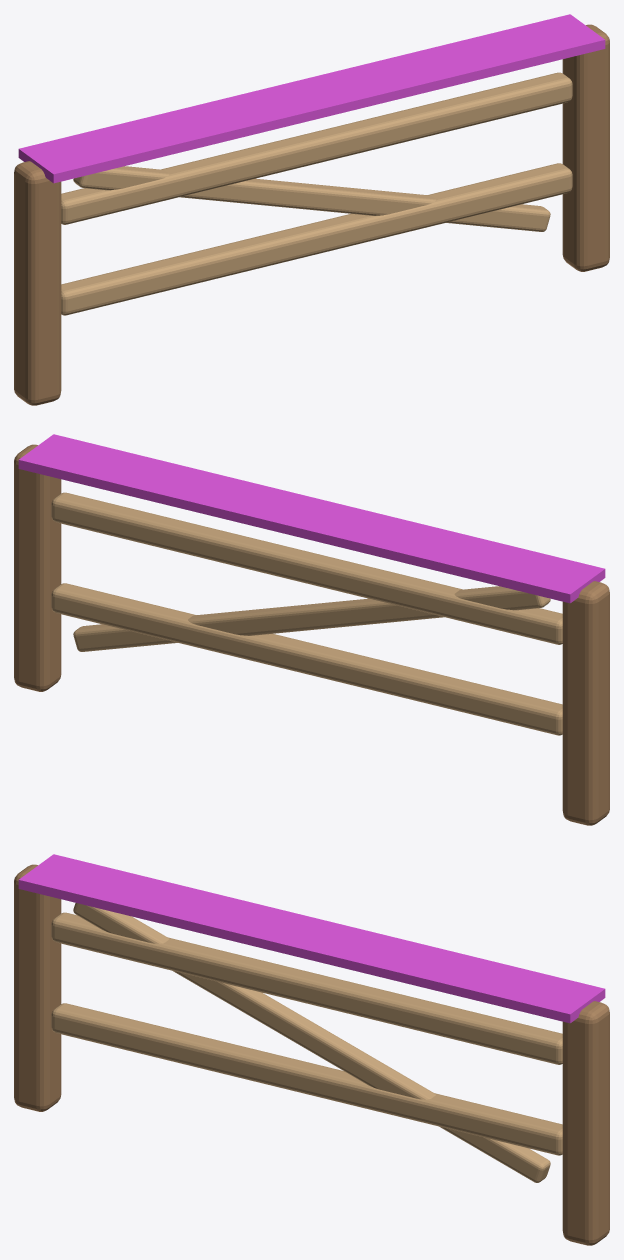
3 renders of one model, top to bottom at view 1: azimuth 30°, elevation 25°; view 2: azimuth 150°, elevation 25°; view 3: azimuth 330°, elevation 25°, orthographic.
Visible parts, largest first — view 1: NAV_MASK_RURAL_GATE, LOD0_RURAL_GATE_TopRail, LOD0_RURAL_GATE_MidRail, LOD0_RURAL_GATE_Post, LOD0_RURAL_GATE_Post.001, LOD0_RURAL_GATE_Brace; view 2: NAV_MASK_RURAL_GATE, LOD0_RURAL_GATE_TopRail, LOD0_RURAL_GATE_MidRail, LOD0_RURAL_GATE_Post, LOD0_RURAL_GATE_Post.001, LOD0_RURAL_GATE_Brace; view 3: NAV_MASK_RURAL_GATE, LOD0_RURAL_GATE_TopRail, LOD0_RURAL_GATE_MidRail, LOD0_RURAL_GATE_Post.001, LOD0_RURAL_GATE_Post, LOD0_RURAL_GATE_Brace.
Part boxes in pixels (bbox=[...]): NAV_MASK_RURAL_GATE: bbox=[18, 14, 605, 183]; LOD0_RURAL_GATE_TopRail: bbox=[61, 72, 572, 224]; LOD0_RURAL_GATE_MidRail: bbox=[61, 163, 572, 315]; LOD0_RURAL_GATE_Post: bbox=[14, 161, 61, 405]; LOD0_RURAL_GATE_Post.001: bbox=[562, 24, 609, 271]; LOD0_RURAL_GATE_Brace: bbox=[73, 166, 550, 231]; NAV_MASK_RURAL_GATE: bbox=[18, 434, 605, 603]; LOD0_RURAL_GATE_TopRail: bbox=[51, 492, 562, 644]; LOD0_RURAL_GATE_MidRail: bbox=[51, 583, 562, 735]; LOD0_RURAL_GATE_Post: bbox=[562, 581, 609, 825]; LOD0_RURAL_GATE_Post.001: bbox=[14, 444, 61, 691]; LOD0_RURAL_GATE_Brace: bbox=[73, 586, 550, 651]; NAV_MASK_RURAL_GATE: bbox=[18, 854, 605, 1023]; LOD0_RURAL_GATE_TopRail: bbox=[51, 912, 562, 1064]; LOD0_RURAL_GATE_MidRail: bbox=[51, 1003, 562, 1155]; LOD0_RURAL_GATE_Post.001: bbox=[562, 1001, 609, 1245]; LOD0_RURAL_GATE_Post: bbox=[14, 864, 61, 1111]; LOD0_RURAL_GATE_Brace: bbox=[73, 903, 550, 1182].
Size of what is drawn, in the model's own units: 4.04 by 1.57 by 0.42.
